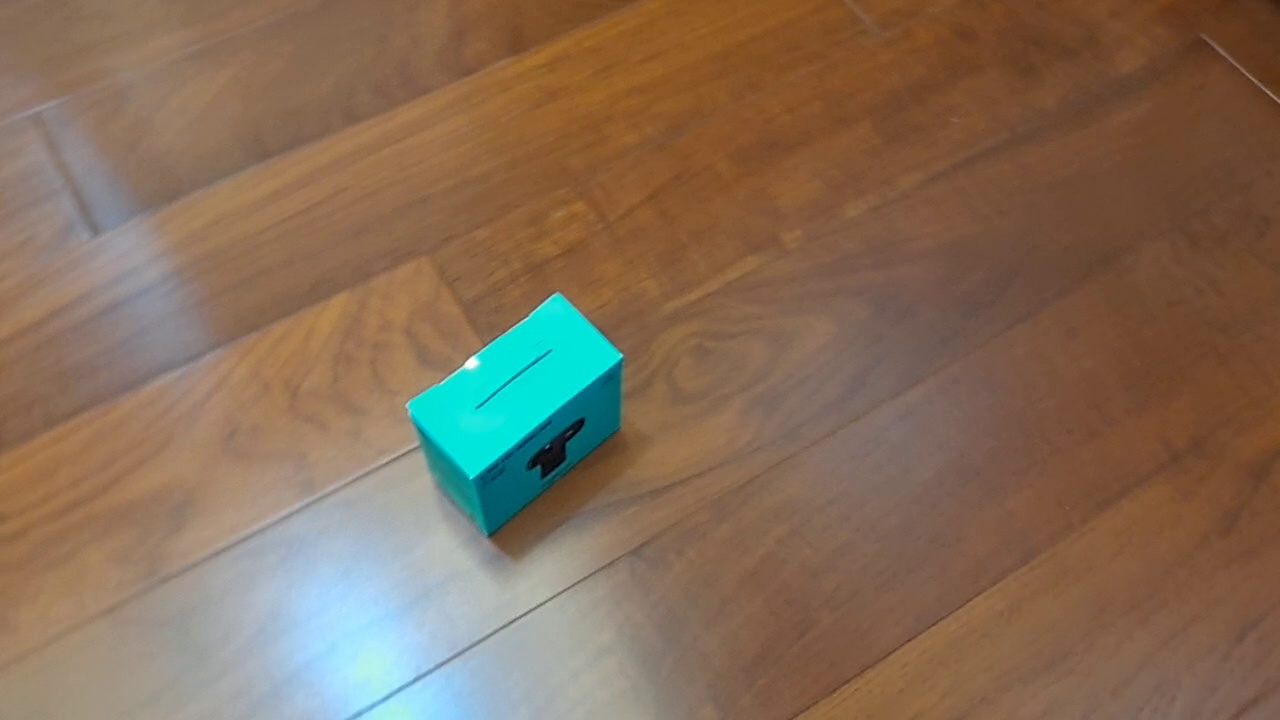webcam: (404, 291, 624, 538)
